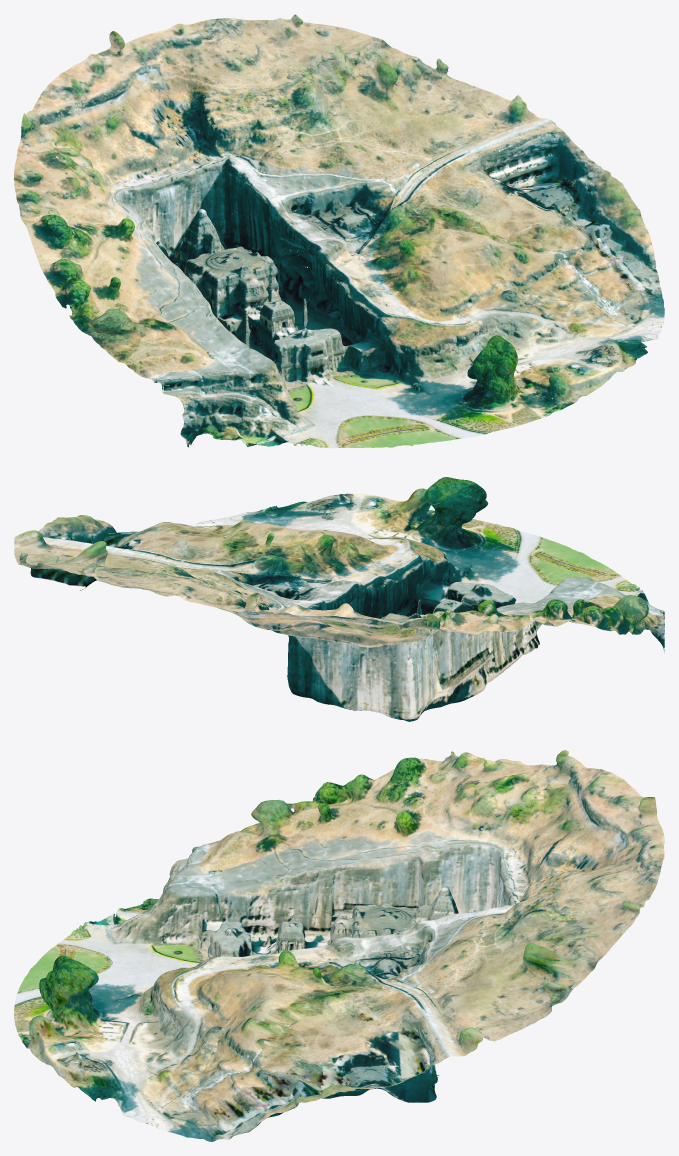
Rendered from ellora_scan.glb.
The picture shows the model from 3 angles, top to bottom: view 1: azimuth 30°, elevation 25°; view 2: azimuth 150°, elevation 25°; view 3: azimuth 270°, elevation 25°; orthographic projection.
Parts seen in each view (by area): view 1: Retopo_Model; view 2: Retopo_Model; view 3: Retopo_Model.
Part boxes in pixels (bbox=[...]): Retopo_Model: bbox=[14, 14, 664, 448]; Retopo_Model: bbox=[14, 477, 664, 721]; Retopo_Model: bbox=[14, 750, 664, 1141].
Size of the model in its own units: 2586 by 862 by 2584.
1 material, 1 textured.
